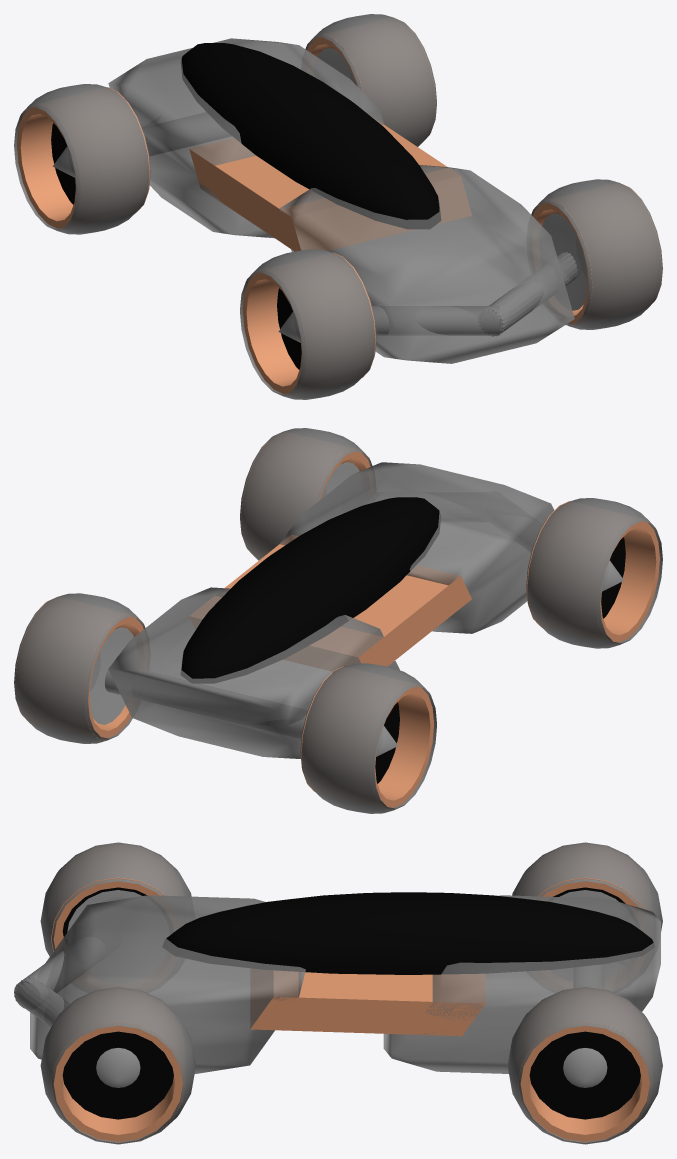
Rendered from tronRacerDfbx.fbx.
The picture shows the model from 3 angles, top to bottom: view 1: azimuth 30°, elevation 25°; view 2: azimuth 150°, elevation 25°; view 3: azimuth 270°, elevation 25°; orthographic projection. The views are drawn at different scales.
Parts seen in each view (by area): view 1: polySurface54, polySurface57, polySurface55, polySurface56, polySurface27, polySurface23, polySurface22, polySurface25, polySurface29, polySurface24, polySurface26, polySurface28 (+11 smaller); view 2: polySurface57, polySurface55, polySurface54, polySurface23, polySurface27, polySurface26, polySurface29, polySurface25, polySurface28, polySurface56, polySurface22, polySurface24 (+11 smaller); view 3: polySurface57, polySurface54, polySurface55, polySurface56, polySurface22, polySurface26, polySurface24, polySurface28, polySurface40, polySurface20, polySurface23, polySurface25 (+15 smaller).
Part boxes in pixels (left/top/right/bottom): polySurface54: left=279, top=165, right=574, bottom=363; polySurface57: left=181, top=43, right=440, bottom=228; polySurface55: left=108, top=38, right=383, bottom=238; polySurface56: left=189, top=115, right=471, bottom=251; polySurface27: left=14, top=84, right=150, bottom=234; polySurface23: left=240, top=249, right=376, bottom=399; polySurface22: left=531, top=179, right=662, bottom=329; polySurface25: left=240, top=250, right=374, bottom=399; polySurface29: left=14, top=84, right=148, bottom=233; polySurface24: left=532, top=180, right=662, bottom=329; polySurface26: left=305, top=14, right=436, bottom=146; polySurface28: left=306, top=14, right=436, bottom=146; polySurface57: left=181, top=497, right=440, bottom=683; polySurface55: left=108, top=587, right=399, bottom=758; polySurface54: left=279, top=462, right=554, bottom=633; polySurface23: left=526, top=498, right=662, bottom=648; polySurface27: left=300, top=663, right=436, bottom=813; polySurface26: left=14, top=593, right=145, bottom=743; polySurface29: left=302, top=664, right=436, bottom=813; polySurface25: left=528, top=498, right=662, bottom=647; polySurface28: left=14, top=594, right=144, bottom=743; polySurface56: left=189, top=535, right=471, bottom=671; polySurface22: left=240, top=428, right=372, bottom=560; polySurface24: left=240, top=428, right=371, bottom=559; polySurface57: left=162, top=892, right=654, bottom=974; polySurface54: left=30, top=895, right=305, bottom=1073; polySurface55: left=383, top=895, right=660, bottom=1073; polySurface56: left=250, top=968, right=485, bottom=1036; polySurface22: left=40, top=987, right=195, bottom=1144; polySurface26: left=507, top=987, right=662, bottom=1144; polySurface24: left=41, top=987, right=195, bottom=1143; polySurface28: left=508, top=987, right=662, bottom=1143; polySurface40: left=529, top=1031, right=640, bottom=1119; polySurface20: left=62, top=1031, right=173, bottom=1119; polySurface23: left=40, top=842, right=191, bottom=956; polySurface25: left=41, top=843, right=190, bottom=955.
Size of the model in its own units: 8.31 by 3.5 by 12.53.
